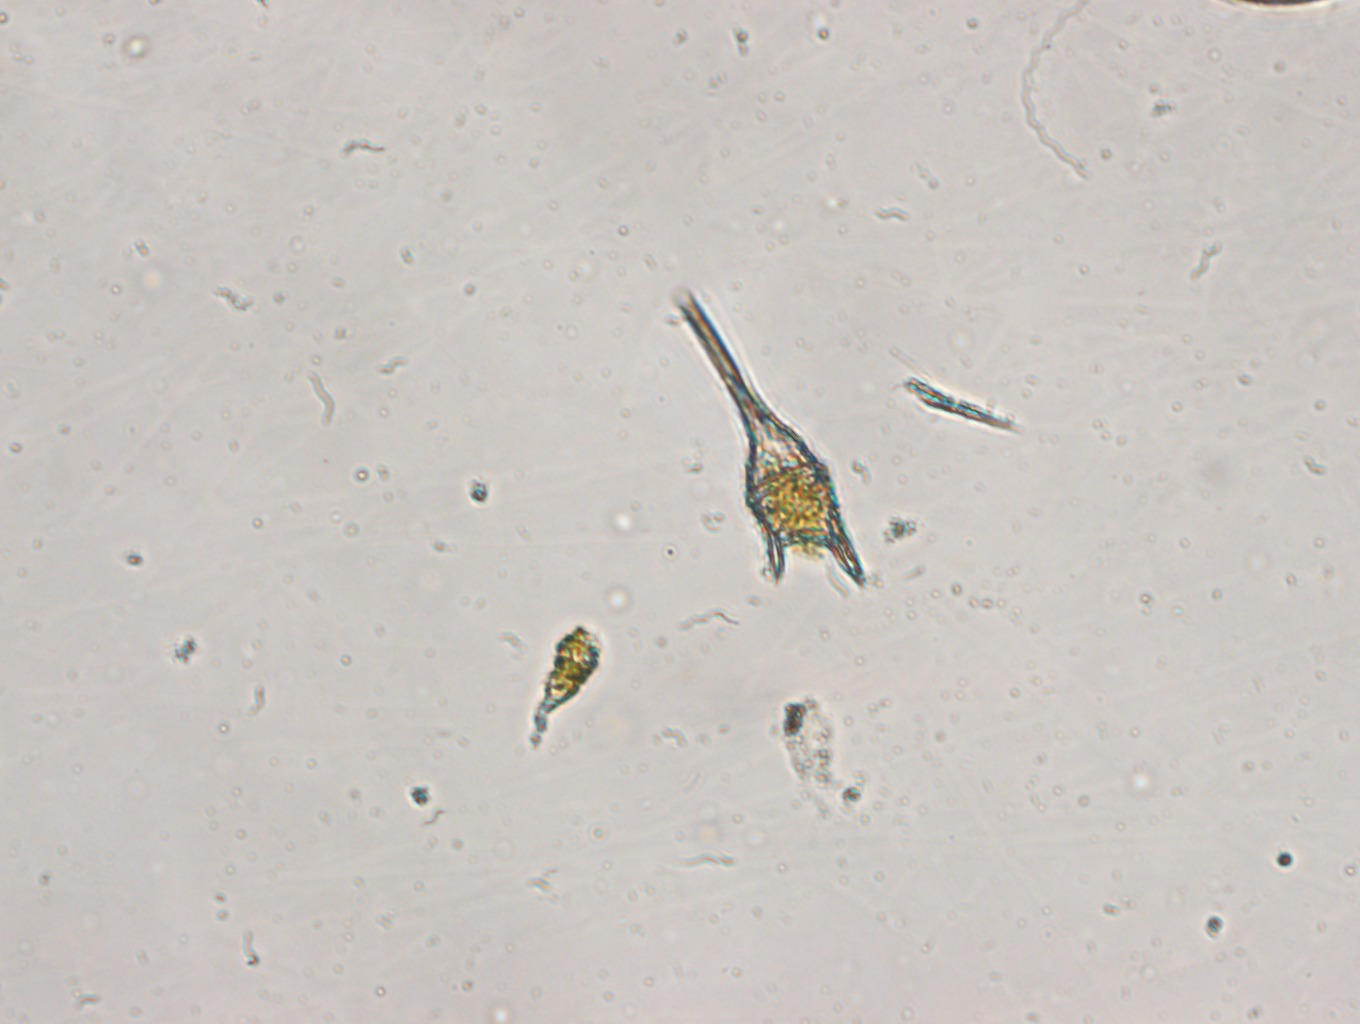ceratium furca: (672, 284, 870, 591)
